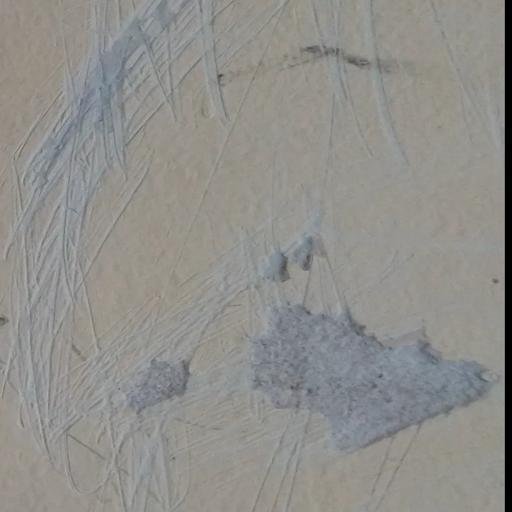peeling: (236, 206, 502, 474), (83, 315, 226, 439)
